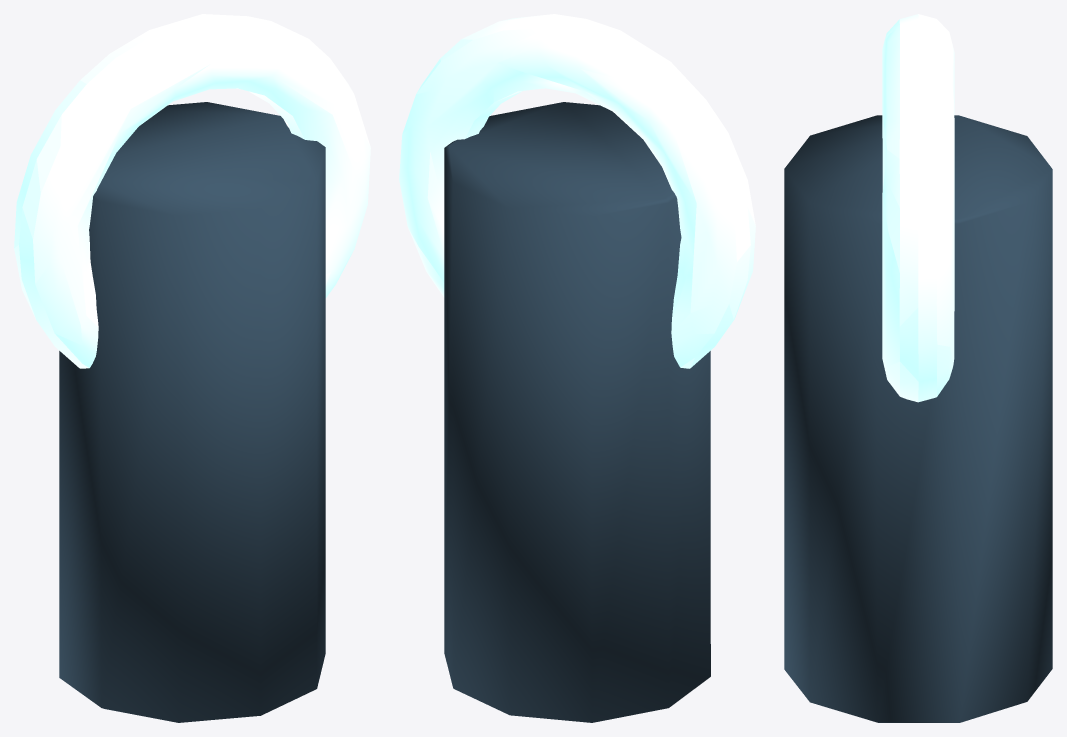
File: SM_Rheinufer_Bollard_LOD2.fbx
3 views of the same model, side by side, from view 1: azimuth 30°, elevation 25°; view 2: azimuth 150°, elevation 25°; view 3: azimuth 270°, elevation 25° (orthographic).
Visible parts, largest first — view 1: SM_Rheinufer_Bollard_LOD2; view 2: SM_Rheinufer_Bollard_LOD2; view 3: SM_Rheinufer_Bollard_LOD2.
Boxes of the visible parts, x1,y1,x2,y2 form: SM_Rheinufer_Bollard_LOD2: [14, 14, 370, 722]; SM_Rheinufer_Bollard_LOD2: [399, 14, 755, 722]; SM_Rheinufer_Bollard_LOD2: [784, 14, 1052, 722].
Size of the model in its own units: 0.6397 by 1.14 by 0.4348.
